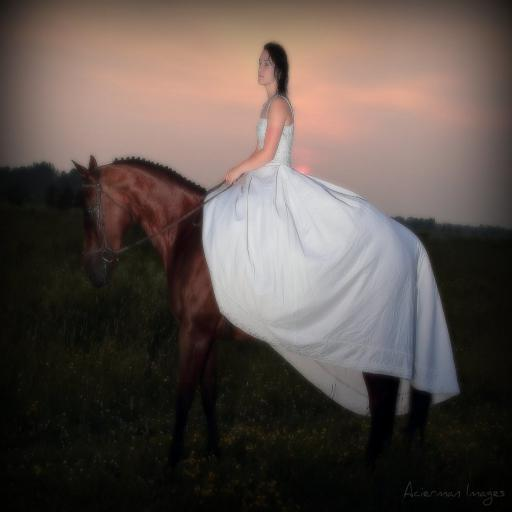horse: (69, 157, 431, 492)
